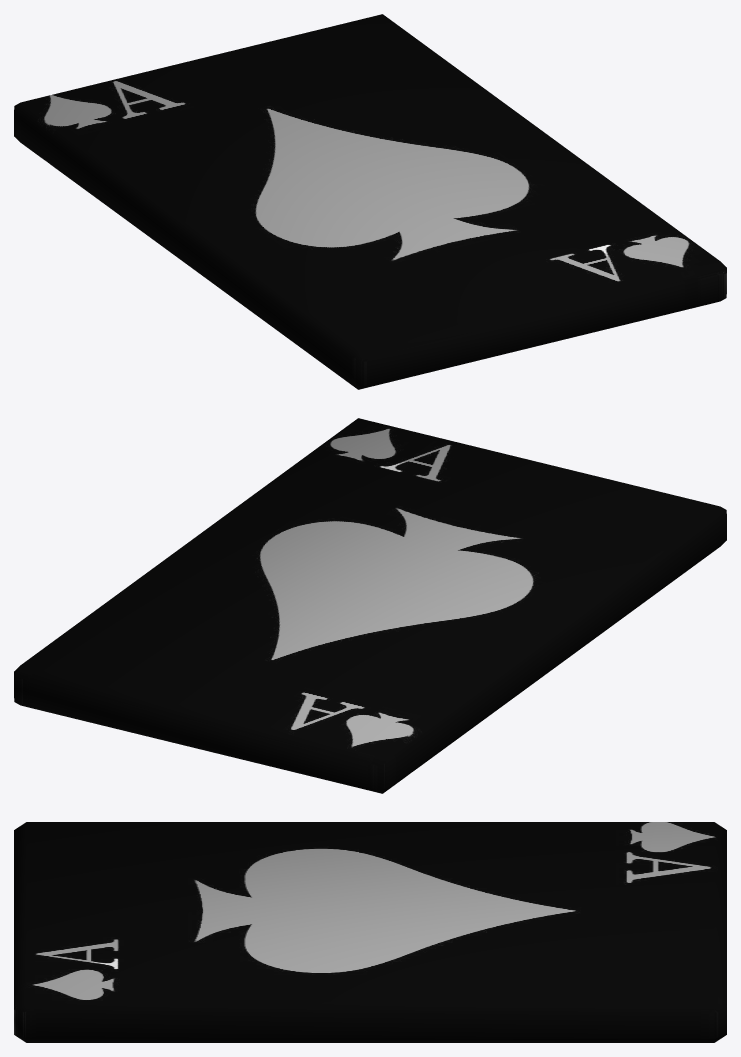
Rendered from M_CardThrow.fbx.
3 views of the same model, one above another, from view 1: azimuth 30°, elevation 25°; view 2: azimuth 150°, elevation 25°; view 3: azimuth 270°, elevation 25° (orthographic).
Parts seen in each view (by area): view 1: Plane.003; view 2: Plane.003; view 3: Plane.003.
Boxes of the visible parts, box(x1,y1,x2,y2) form: Plane.003: box(14, 14, 726, 389); Plane.003: box(14, 418, 726, 793); Plane.003: box(14, 822, 726, 1042).
Size of the model in its own units: 13.14 by 1.35 by 21.22.
